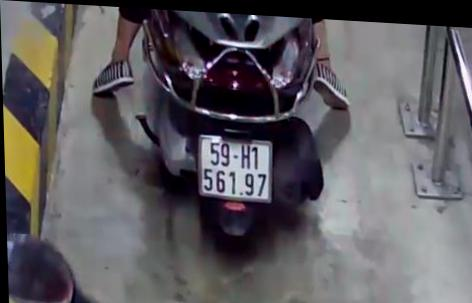License_Plate: (187, 128, 282, 217)
